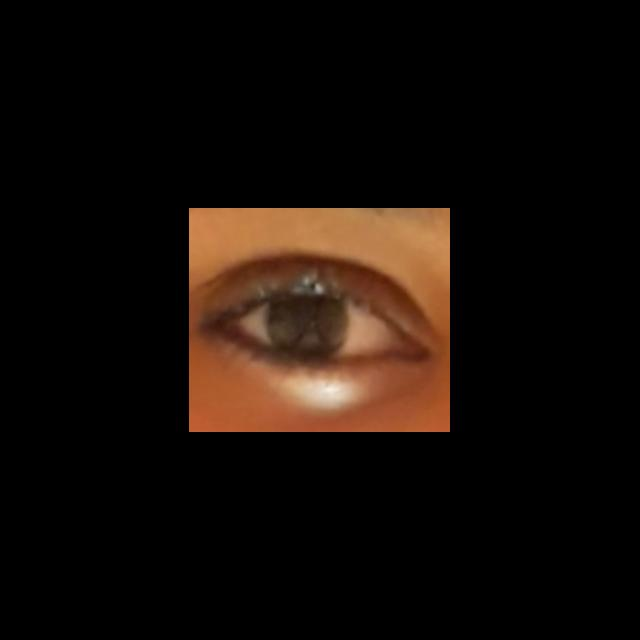eye: (237, 296, 403, 363)
iris: (268, 299, 348, 357)
